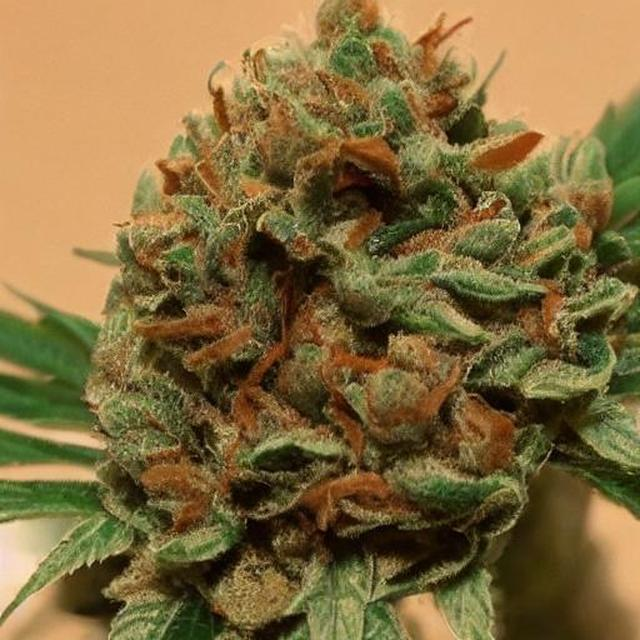Marijuana Joint: (47, 1, 640, 618)
